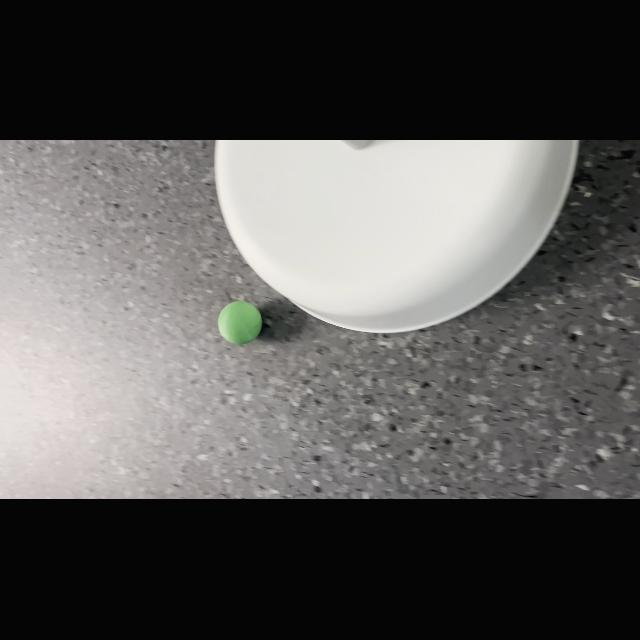objects: (214, 295, 268, 347)
